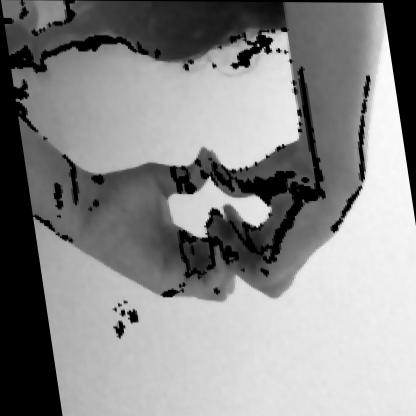heart: (36, 118, 395, 319)
